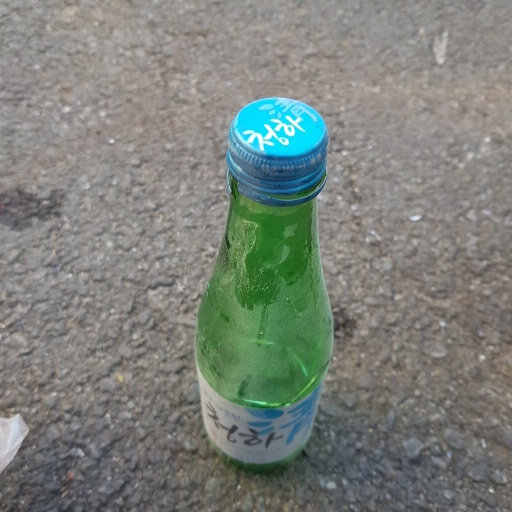Glass_0: (190, 94, 339, 470)
